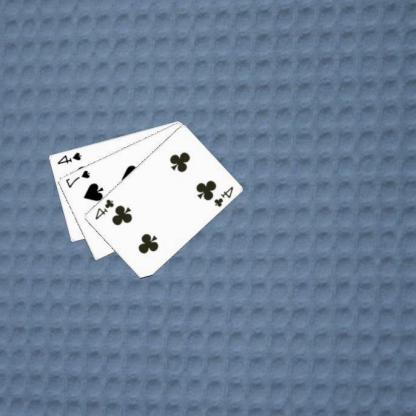4C: (94, 196, 117, 221), (213, 183, 236, 208)
4S: (57, 149, 84, 166)
7S: (64, 167, 93, 190)
